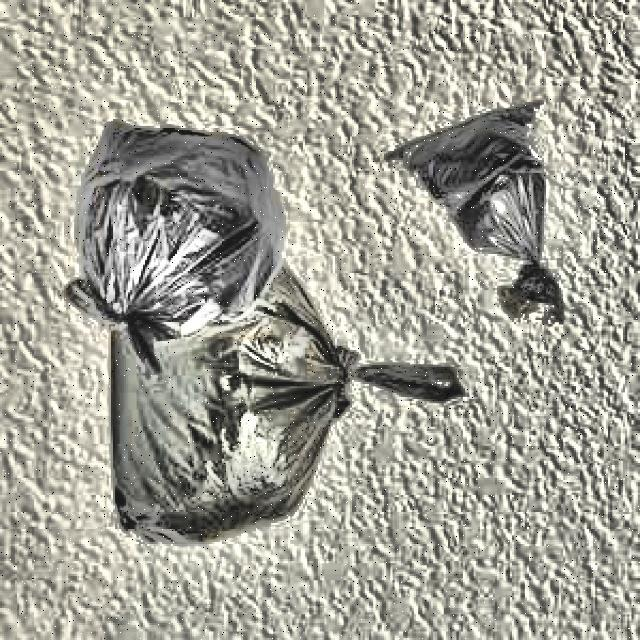Trashbag: (102, 298, 470, 548), (53, 117, 292, 375), (391, 90, 569, 327)
